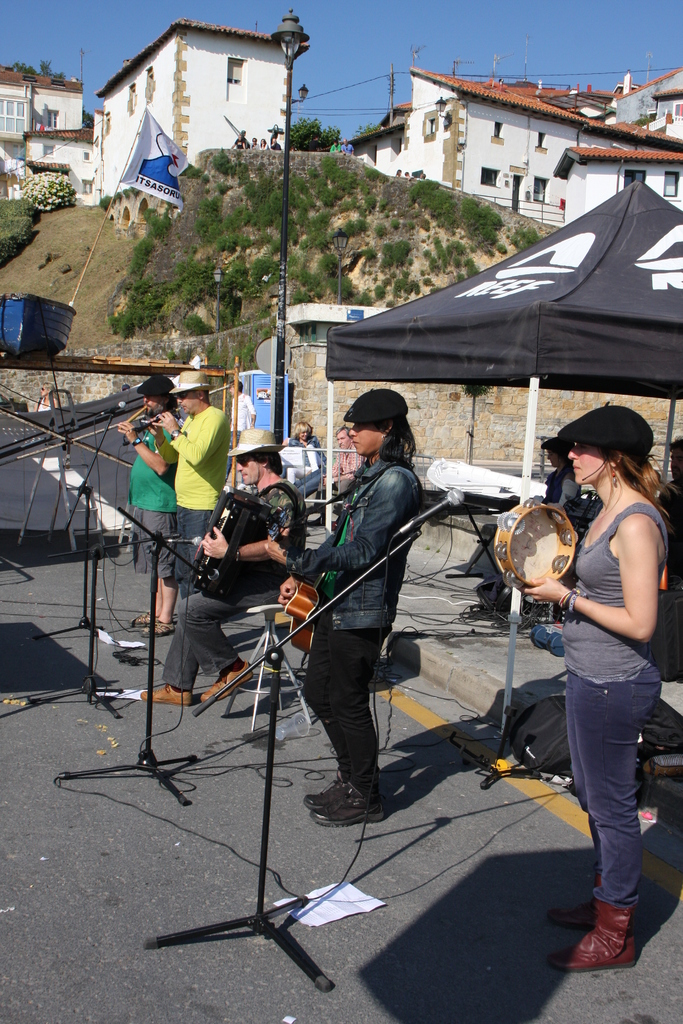Footwear: (547, 888, 620, 972), (545, 879, 602, 931), (306, 784, 384, 819), (205, 659, 261, 707), (305, 772, 349, 805), (145, 685, 187, 702), (147, 627, 181, 641), (128, 616, 158, 628)
